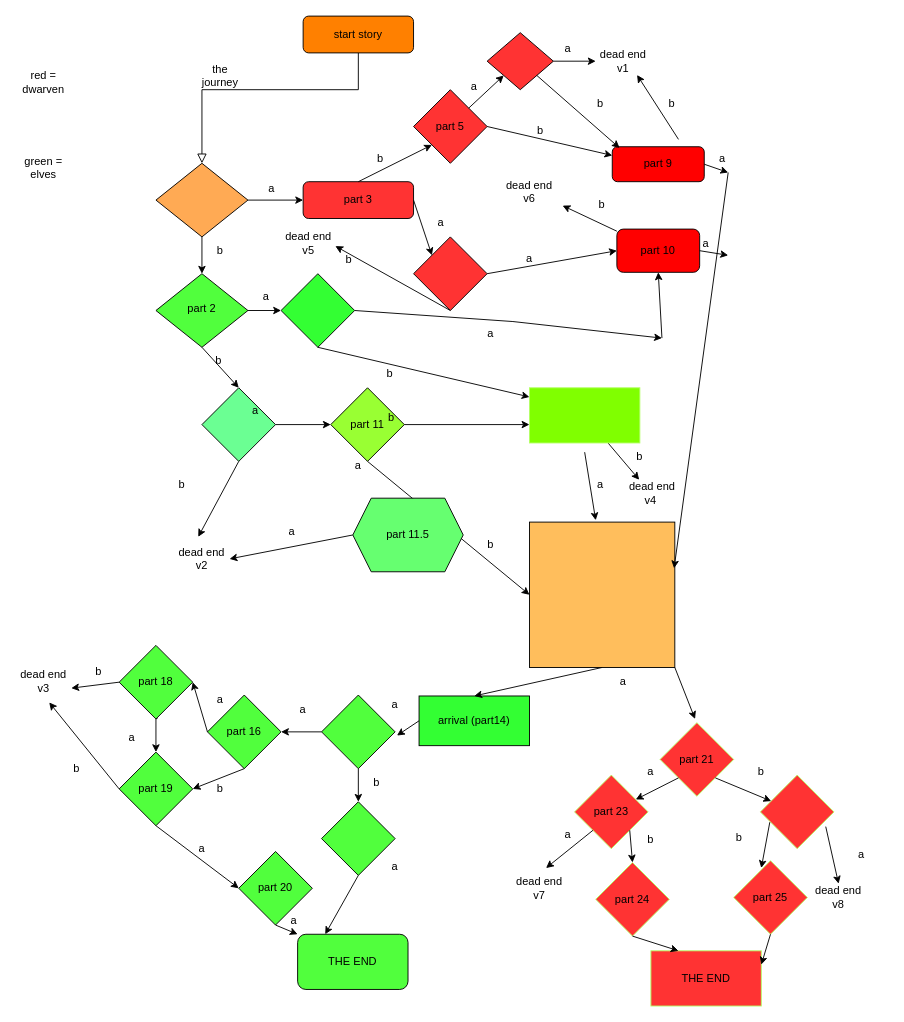
Image size: 904x1022. Some labels were removed from this diagram. The box of each missing label's shape, as (x1, y1, x2, y2) in pixels:
part 1: (155, 162, 248, 237)
part 12: (529, 387, 640, 443)
part 13 v1 and v2 (end of journey): (529, 521, 675, 667)
part 15: (321, 694, 395, 769)
part 17: (321, 801, 395, 875)
part 22: (759, 774, 834, 849)
part 4: (413, 236, 487, 310)
part 6: (280, 273, 355, 347)
part 7: (201, 387, 276, 461)
part 8: (486, 32, 553, 90)
